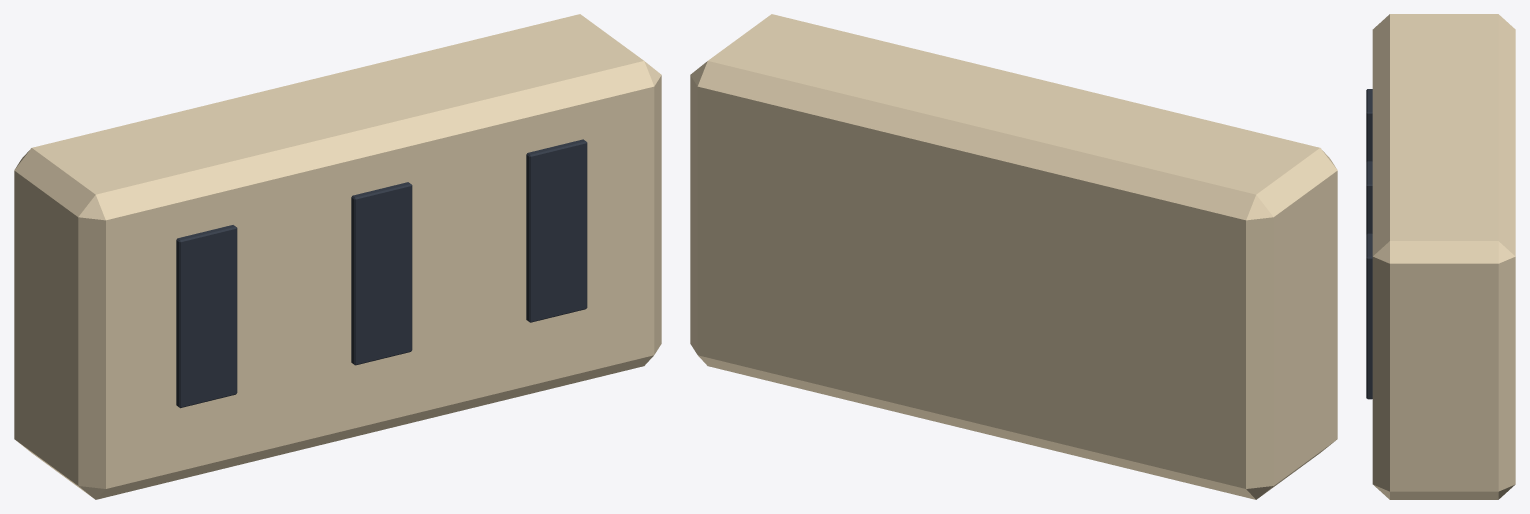
The model's file is street_001_seed100.glb.
3 views of the same model, side by side, from view 1: azimuth 30°, elevation 25°; view 2: azimuth 150°, elevation 25°; view 3: azimuth 270°, elevation 25° (orthographic). The views are drawn at different scales.
Parts seen in each view (by area): view 1: street_001_seed100; view 2: street_001_seed100; view 3: street_001_seed100.
Part boxes in pixels (x1,y1,x2,y2): street_001_seed100: (14,14,661,499); street_001_seed100: (690,14,1337,499); street_001_seed100: (1366,14,1515,499).
Size of the model in its own units: 2 by 1 by 0.5225.
